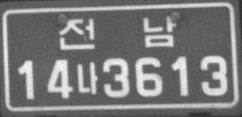1: (168, 54, 192, 97), (15, 60, 39, 99)
3: (198, 54, 228, 97), (101, 56, 130, 98)
4: (45, 58, 73, 99)
6: (134, 55, 163, 98)
나: (75, 61, 98, 95)
전남_D: (57, 14, 177, 51)
